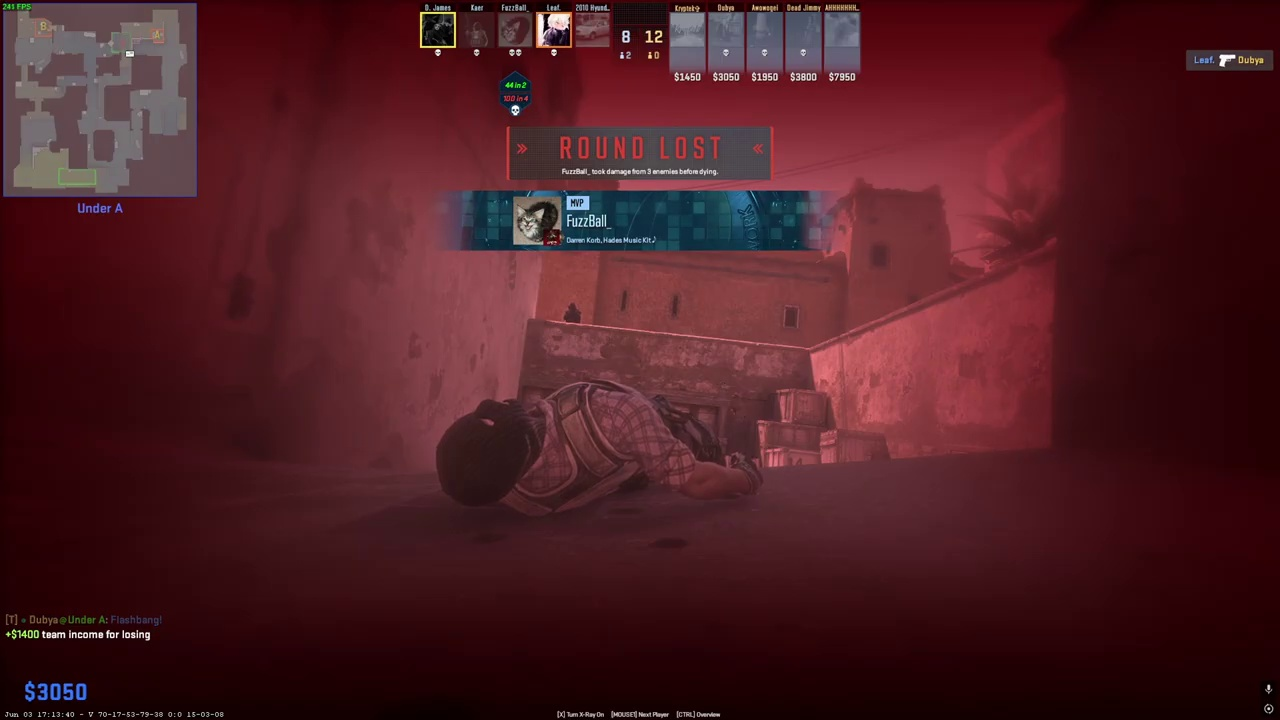CT: (564, 302, 582, 323)
